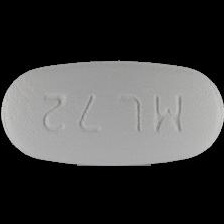33342-026: (0, 0, 224, 224)
